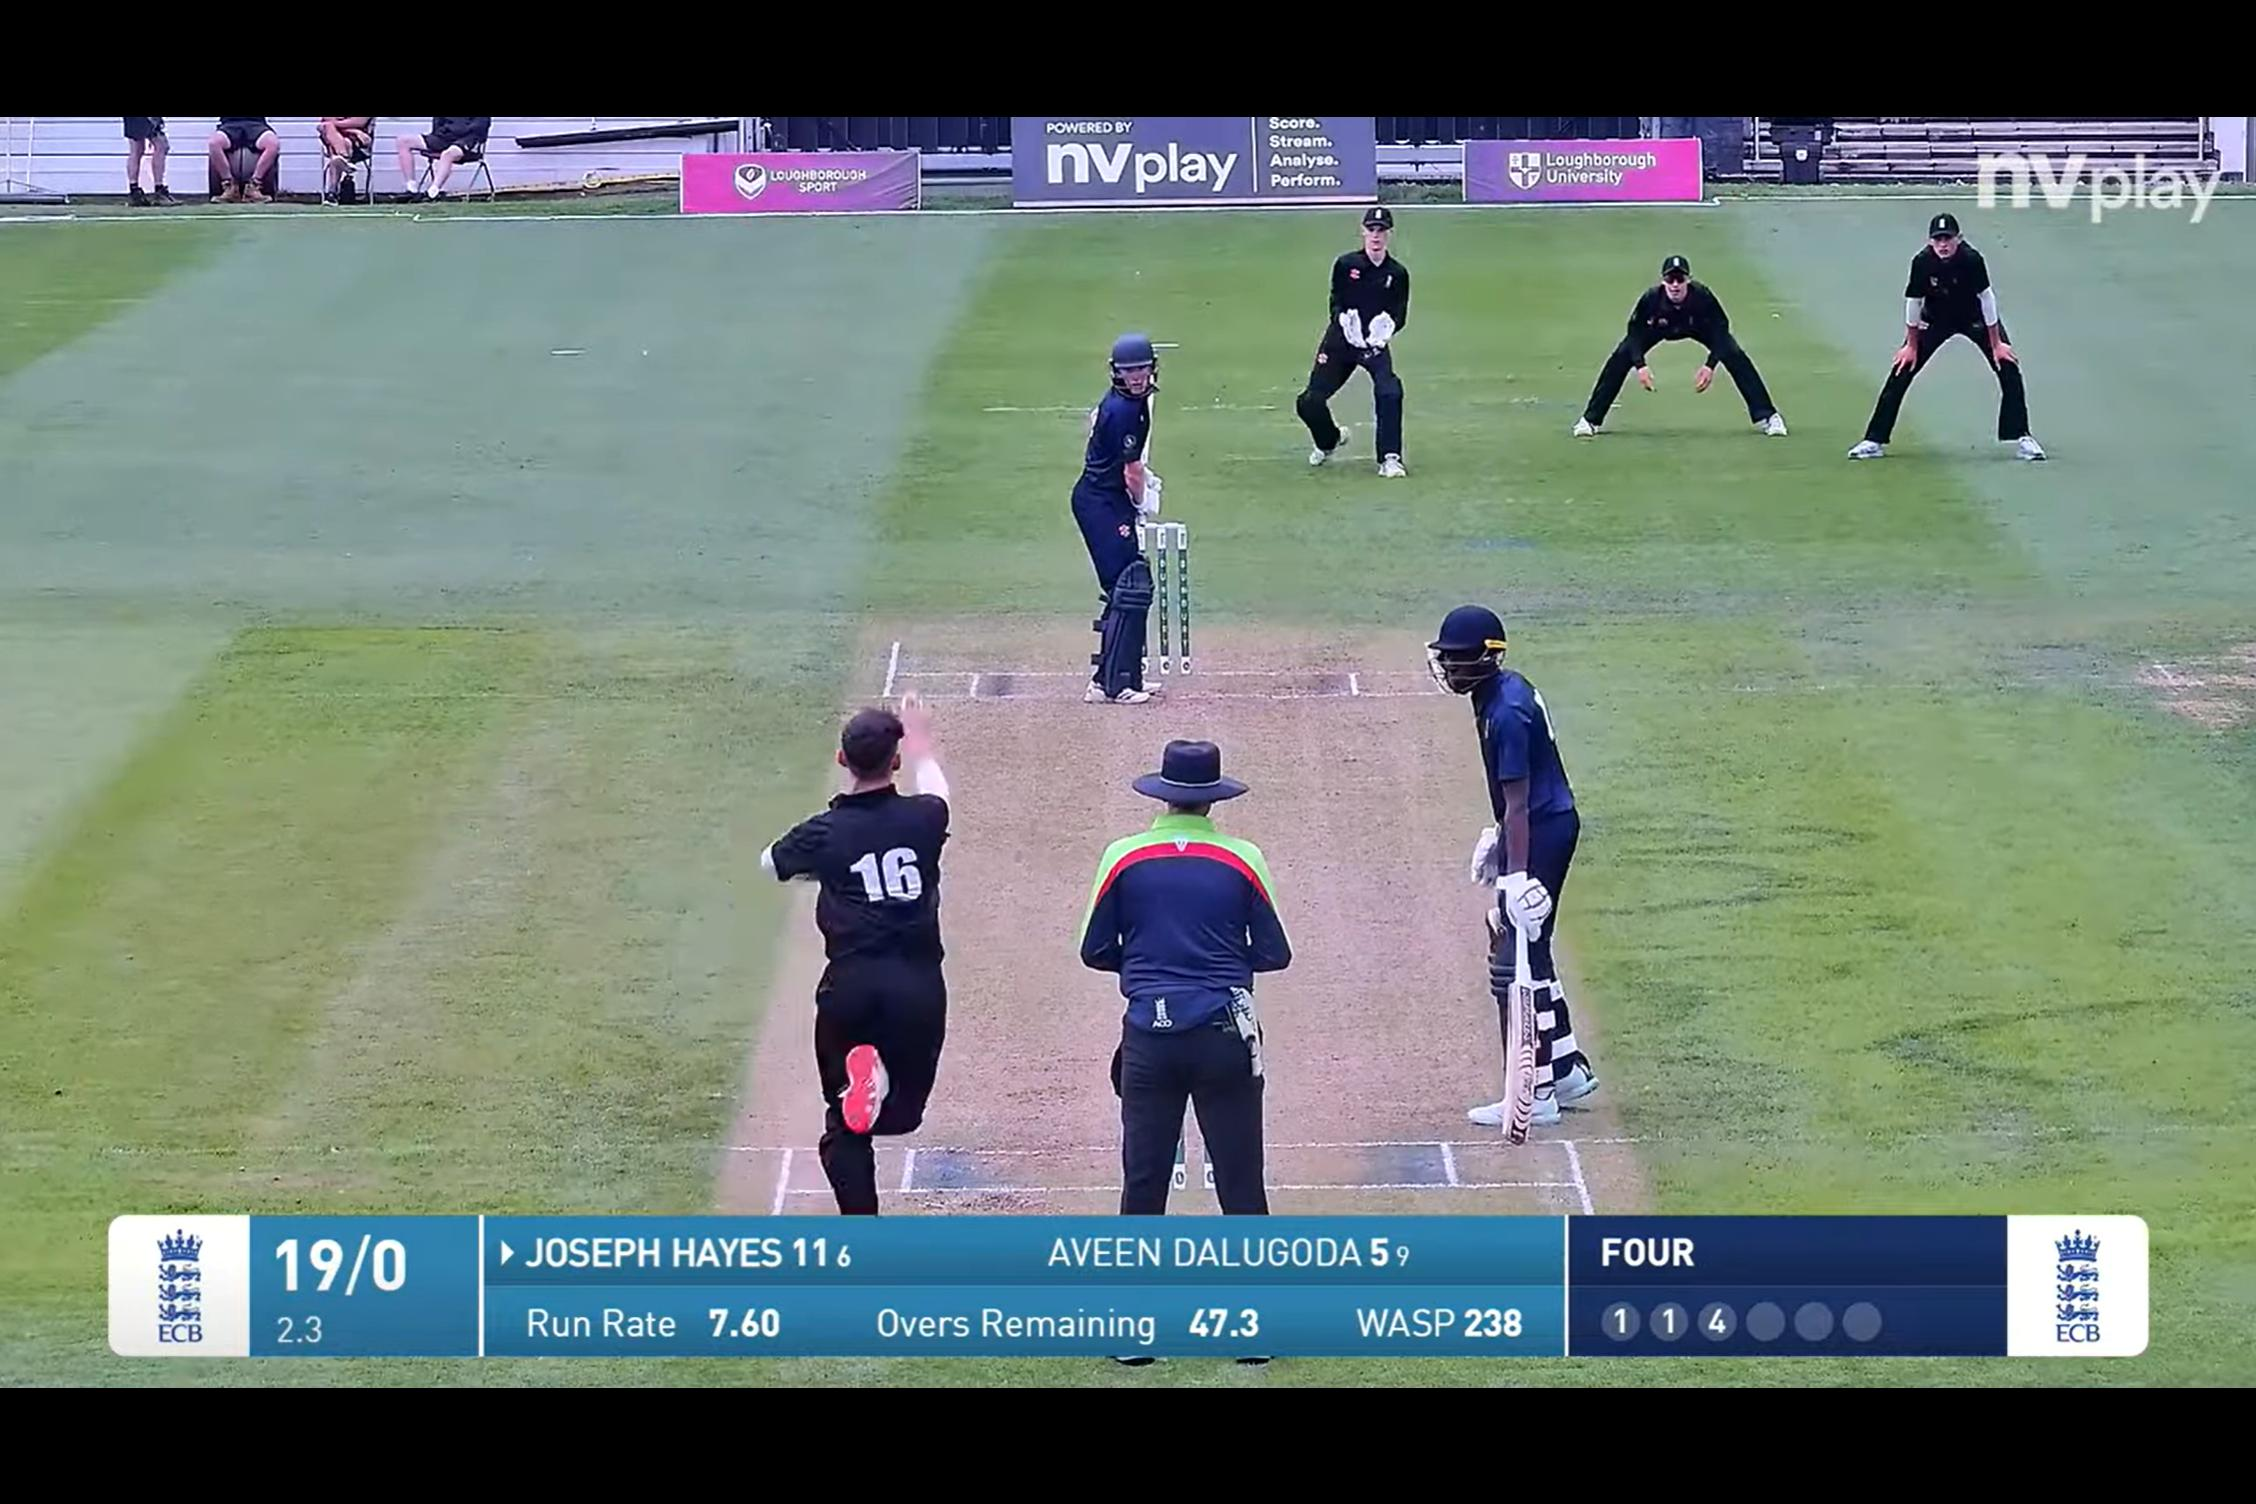batsman: (1016, 327, 1207, 653)
bowler running in: (740, 688, 1026, 1210)
non striker: (1386, 591, 1650, 1133)
umpire: (1066, 727, 1319, 1215)
wicket keeper: (1301, 188, 1452, 475)
